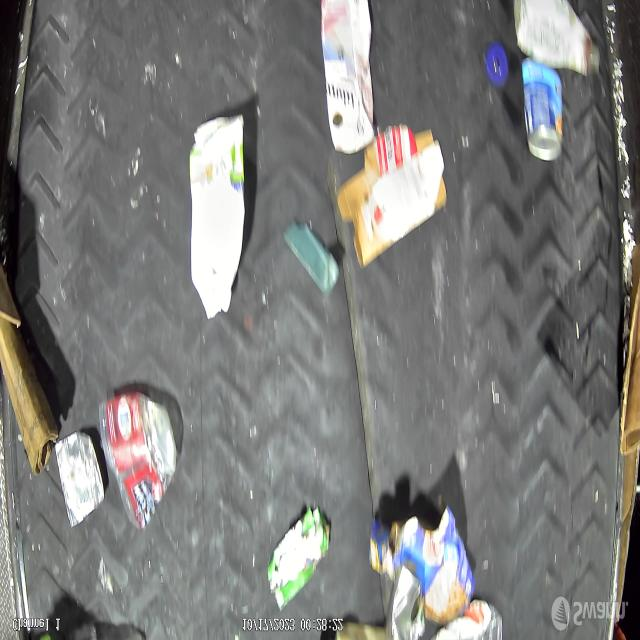can: (55, 432, 104, 528), (522, 59, 564, 165)
milk_jug: (192, 120, 246, 320)
non_white_jug: (321, 0, 375, 154)
